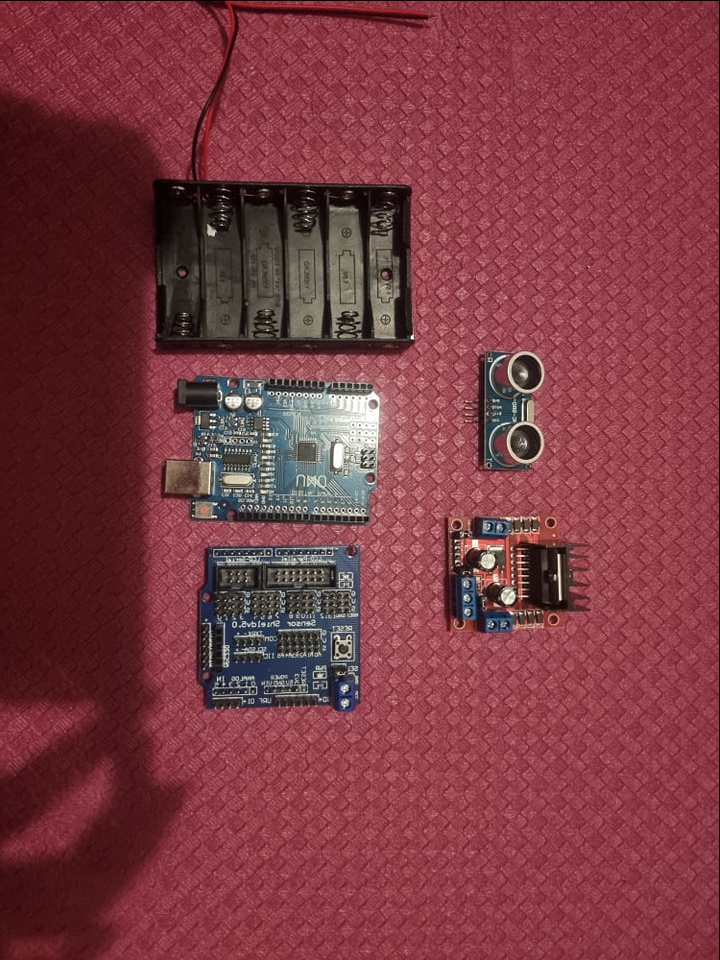5V EXPANSION: (199, 544, 364, 708)
BATTERY BOX: (153, 181, 416, 350)
MOTOR: (450, 511, 591, 631)
SENSOR: (477, 347, 550, 473)
UNO R3: (160, 372, 384, 526)
